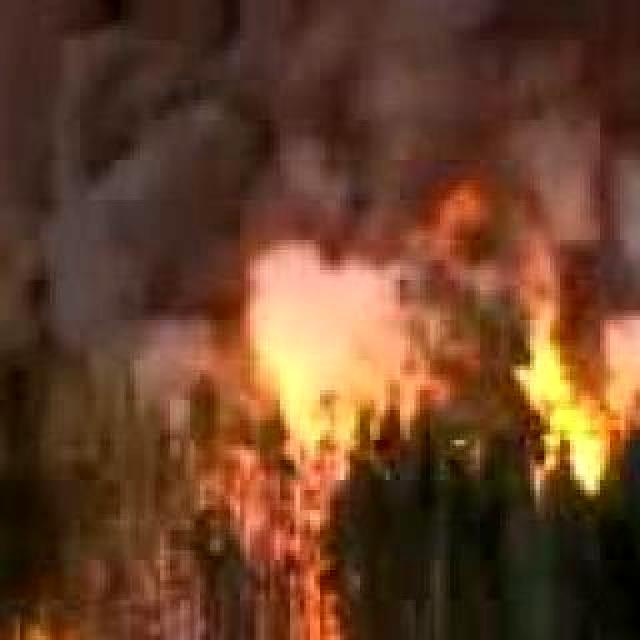fire: (216, 400, 398, 640), (504, 234, 640, 500)
